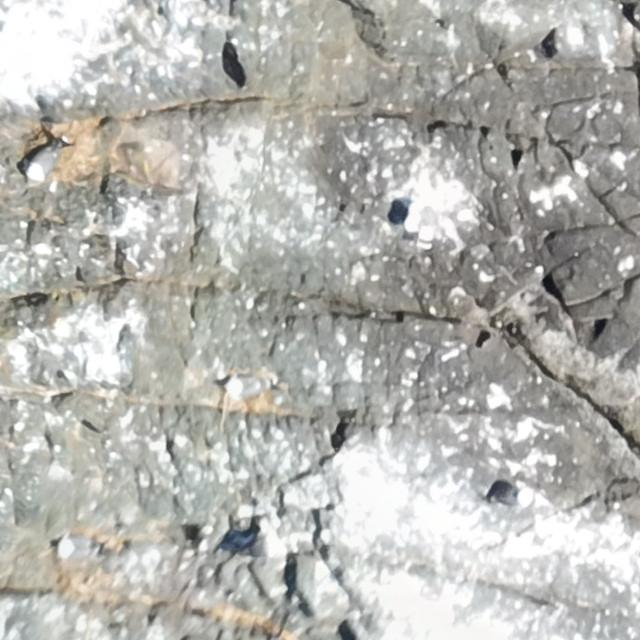umineko: (542, 26, 598, 60), (27, 146, 61, 178), (491, 486, 534, 510), (418, 209, 443, 250), (225, 375, 268, 396)
